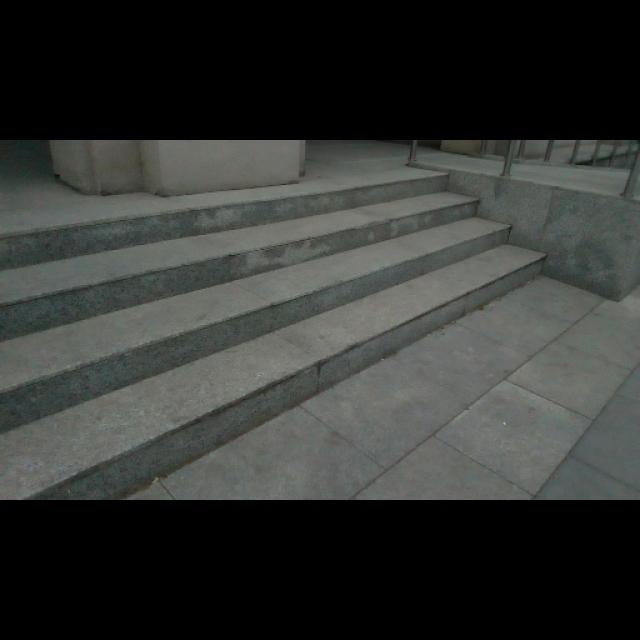stair: (9, 174, 518, 488)
